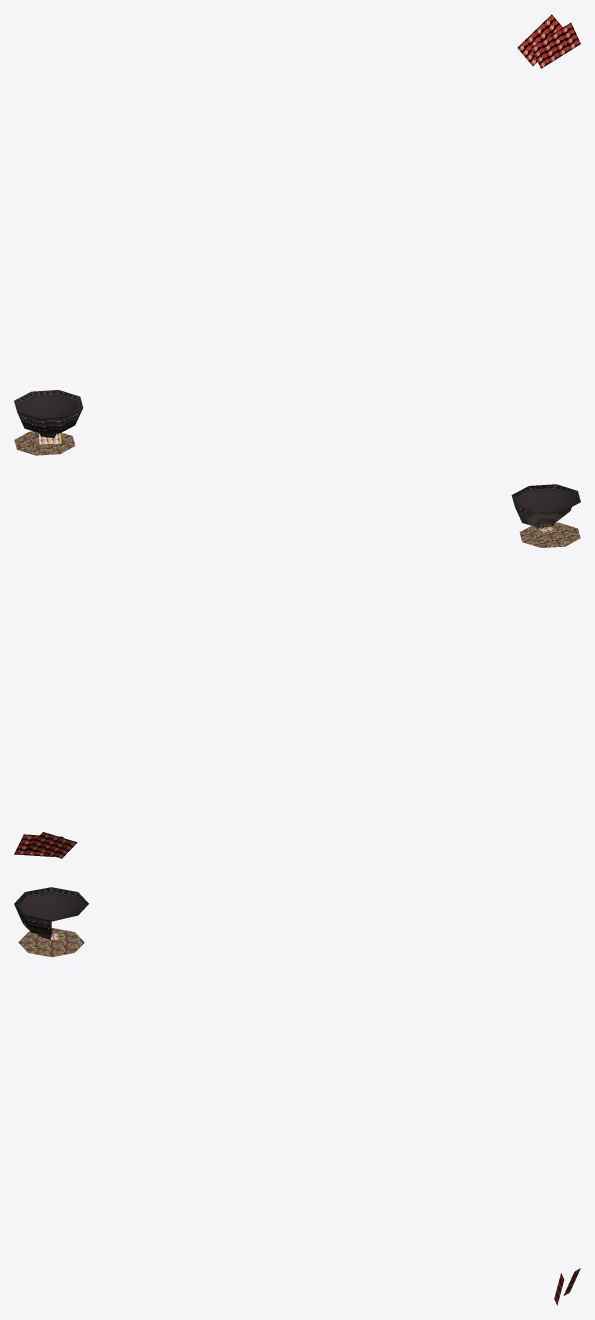
Rendered from 5525u_soba00_hl.gltf.
3 renders of one model, top to bottom at view 1: azimuth 30°, elevation 25°; view 2: azimuth 210°, elevation 25°; view 3: azimuth 270°, elevation 25°, orthographic. The views are drawn at different scales.
Parts seen in each view (by area): view 1: 5525u_soba00_hl; view 2: 5525u_soba00_hl; view 3: 5525u_soba00_hl.
Part boxes in pixels (x1=…): 5525u_soba00_hl: x1=14, y1=14, x2=580, y2=455; 5525u_soba00_hl: x1=14, y1=484, x2=580, y2=858; 5525u_soba00_hl: x1=14, y1=887, x2=580, y2=1305.
Size of the model in its own units: 4.91 by 0.3887 by 2.8.
Materials: 5 (5 with a texture image).
